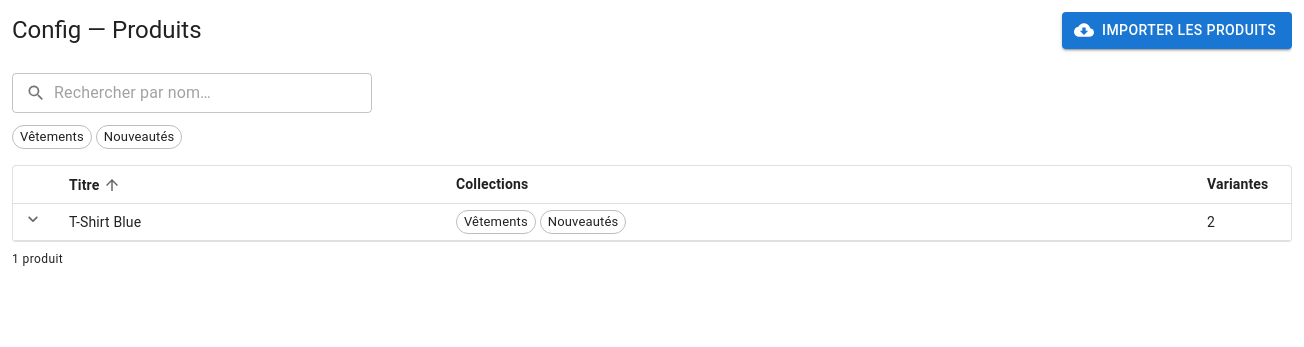
it: ConfigProductsPage › closes import success alert
This screenshot has width=1304, height=347.
Expected: the text "T-Shirt Blue" is shown, [53,203,440,240]
What coordinates should you click on to do the following:
click the button "Importer les produits"
I would click on:
 (1177, 30)
Its box is [1062,12,1292,48].
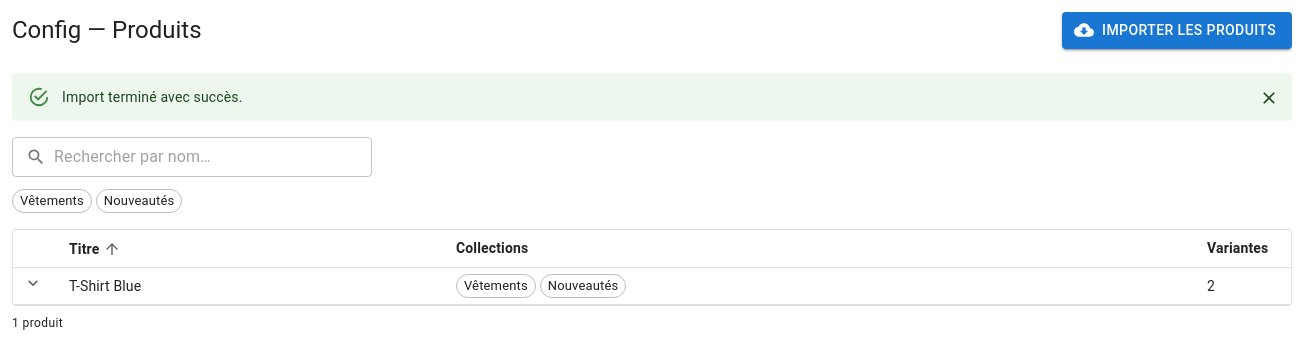
Now the text "Import terminé avec succès." is shown, box [62,88,242,104]
What coordinates should you click on to do the following:
click the button named "Close"
I would click on:
 (1269, 98)
Its box is [1254,82,1284,112].
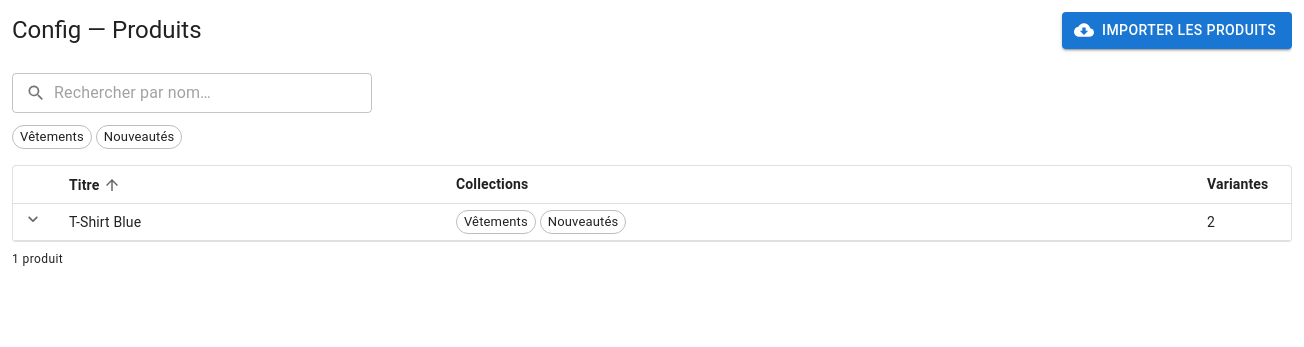
Now the text "Import terminé" is gone
